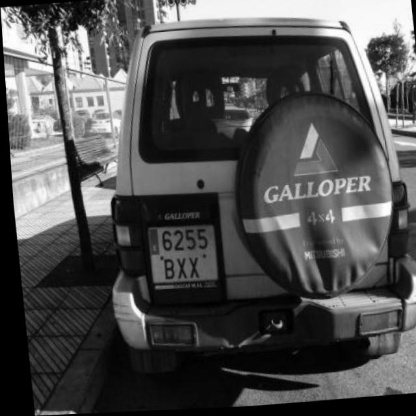car: (67, 0, 416, 399), (146, 219, 212, 289)
